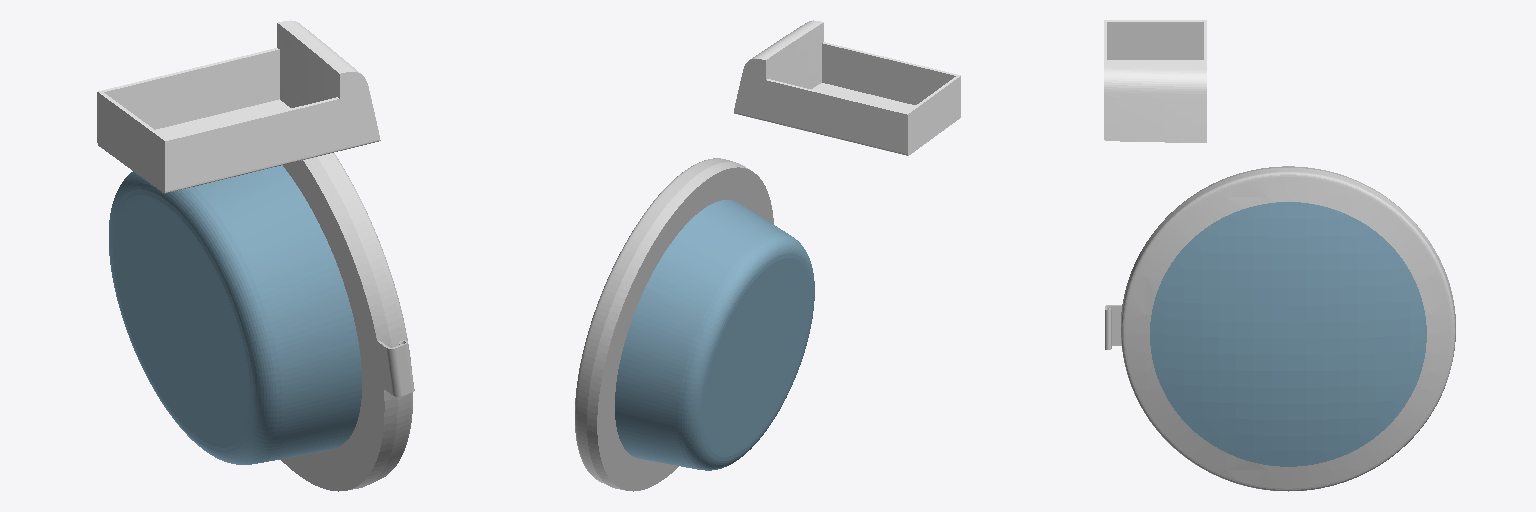
The robot description file, URDF, robot "washing-machine":
<?xml version="1.0" ?>

<robot name="washing-machine">
  
  <link name="base_link">
    <collision>
      <origin xyz="0 0 0" rpy="0 0 0"/>
      <geometry>
        <mesh filename="package://3dmodeling-examples/models/urdf/meshes/washing-machine/main-body.stl" scale="0.001 0.001 0.001" />
      </geometry>
    </collision>
    <visual>
      <origin xyz="0 0 0" rpy="0 0 0"/>
      <geometry>
        <mesh filename="package://3dmodeling-examples/models/urdf/meshes/washing-machine/main-body.dae" />
      </geometry>
    </visual>
  </link>
  
  <link name="door">
    <collision>
      <origin xyz="0 0 0" rpy="0 0 0"/>
      <geometry>
        <mesh filename="package://3dmodeling-examples/models/urdf/meshes/washing-machine/door.stl" scale="0.001 0.001 0.001" />
      </geometry>
    </collision>
    <visual>
      <origin xyz="0 0 0" rpy="0 0 0"/>
      <geometry>
        <mesh filename="package://3dmodeling-examples/models/urdf/meshes/washing-machine/door.dae" />
      </geometry>
    </visual>
  </link>
  
  <link name="tray">
    <collision>
      <origin xyz="0 0 0" rpy="0 0 0"/>
      <geometry>
        <mesh filename="package://3dmodeling-examples/models/urdf/meshes/washing-machine/tray.stl" scale="0.001 0.001 0.001" />
      </geometry>
    </collision>
    <visual>
      <origin xyz="0 0 0" rpy="0 0 0"/>
      <geometry>
        <mesh filename="package://3dmodeling-examples/models/urdf/meshes/washing-machine/tray.dae" />
      </geometry>
    </visual>
  </link>
  
  <joint name="joint1" type="revolute">
    <parent link="base_link"/>
    <child  link="door"/>
    <origin xyz="0.30658 -0.258 0.67582" rpy="0 -0.1396 0"/>
    <axis xyz="0 0 1" />
    <limit effort="30" velocity="1.0" lower="-1.8326" upper="0.0" />
  </joint>
  
  <joint name="joint2" type="prismatic">
    <parent link="base_link"/>
    <child  link="tray"/>
    <origin xyz="0.0 -0.190 0.956" rpy="0 0 0"/>
    <axis xyz="1 0 0" />
    <limit effort="30" velocity="1.0" lower="0.0" upper="0.200" />
  </joint>
  
</robot>

--- Render facts (derived) ---
3 views of the same robot in one strip: view 1: azimuth 30°, elevation 25°; view 2: azimuth 150°, elevation 25°; view 3: azimuth 270°, elevation 25° (orthographic).
Model washing-machine with 3 links and 2 joints (1 revolute, 1 prismatic), rooted at base_link, posed all joints at 0.
Links seen in each view (by area): view 1: door, tray; view 2: door, tray; view 3: door, tray.
Link boxes in pixels (left/top/right/bottom): door: left=109, top=153, right=414, bottom=491; tray: left=97, top=20, right=380, bottom=193; door: left=575, top=158, right=814, bottom=491; tray: left=734, top=20, right=960, bottom=155; door: left=1105, top=166, right=1455, bottom=491; tray: left=1104, top=20, right=1206, bottom=142.
Size in the robot's own frame: 0.3614 by 0.504 by 0.6125 metres.
2 mesh visuals loaded from 3 distinct referenced files (2 Collada DAE); not drawn: 1 (reference not matched to a file when rendering).